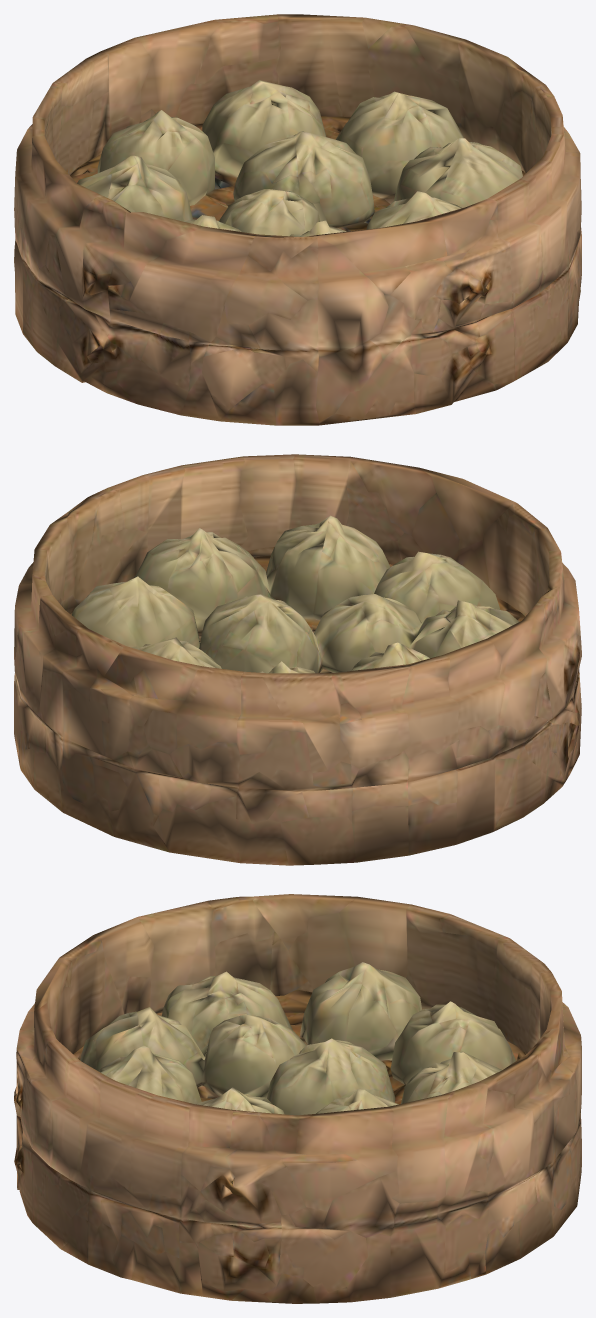
The model's file is veg-momos-sv.glb.
3 views of the same model, one above another, from view 1: azimuth 30°, elevation 25°; view 2: azimuth 150°, elevation 25°; view 3: azimuth 270°, elevation 25° (orthographic).
Visible parts, largest first — view 1: mesh_node; view 2: mesh_node; view 3: mesh_node.
Boxes of the visible parts, <box> form: mesh_node: <box>14,14,581,425</box>; mesh_node: <box>14,454,581,865</box>; mesh_node: <box>14,894,581,1303</box>.
Size of the model in its own units: 0.0241 by 0.00855 by 0.0242.
1 material, 1 textured.
